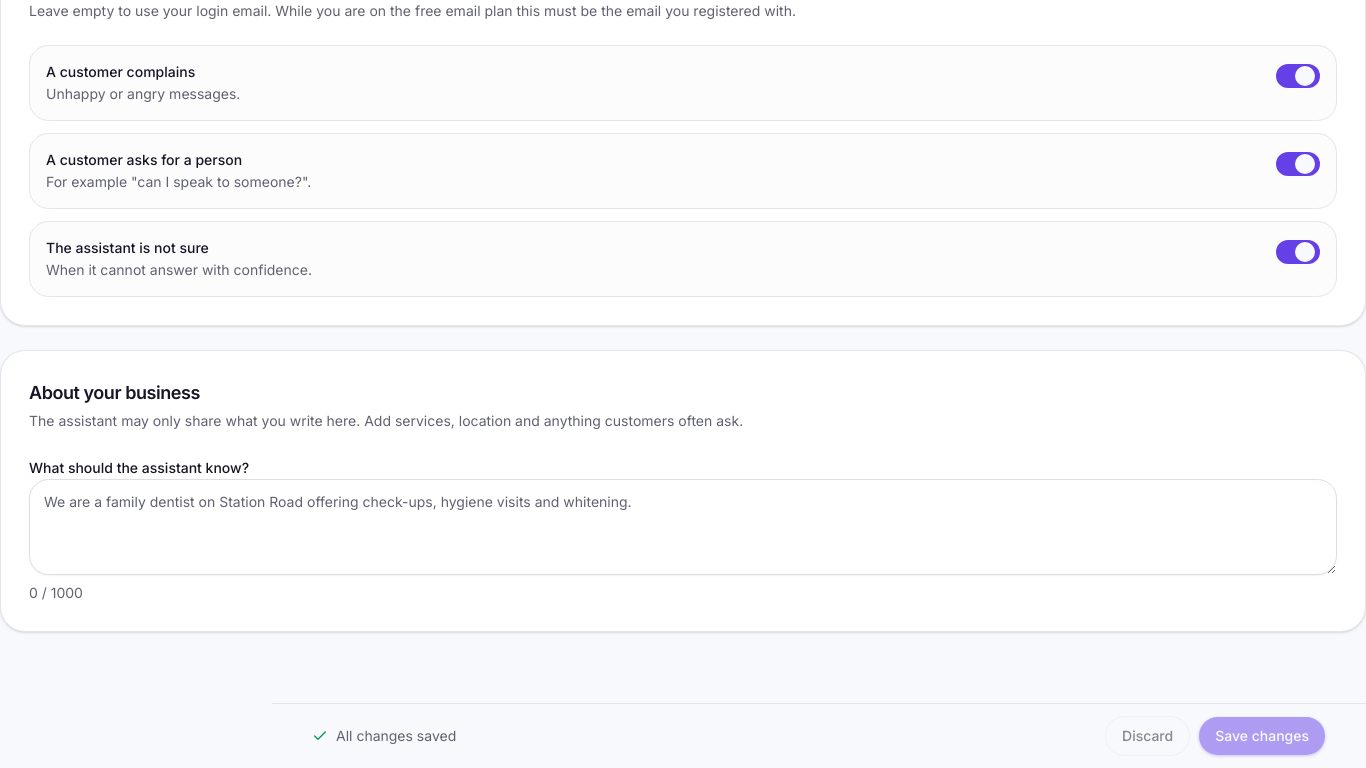
MissedCallForm › counts the characters in the business description
The image size is (1366, 768).
(page scrolled)
Step 1. Replace the text in the text box labelled "What should the assistant know?" with "Family dentist." → [683, 526], box [29,478,1337,574]
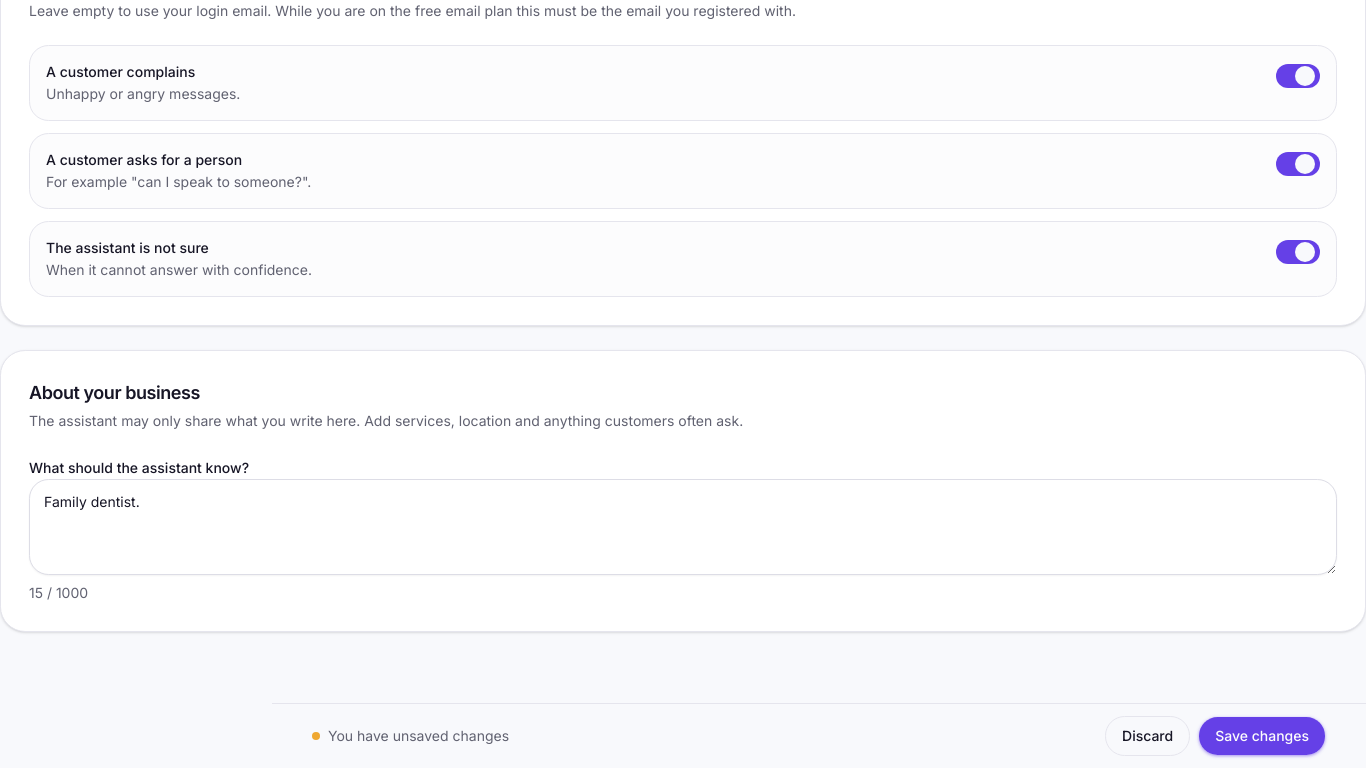
Expected: the text "15 / 1000" is shown, [29,584,88,600]
